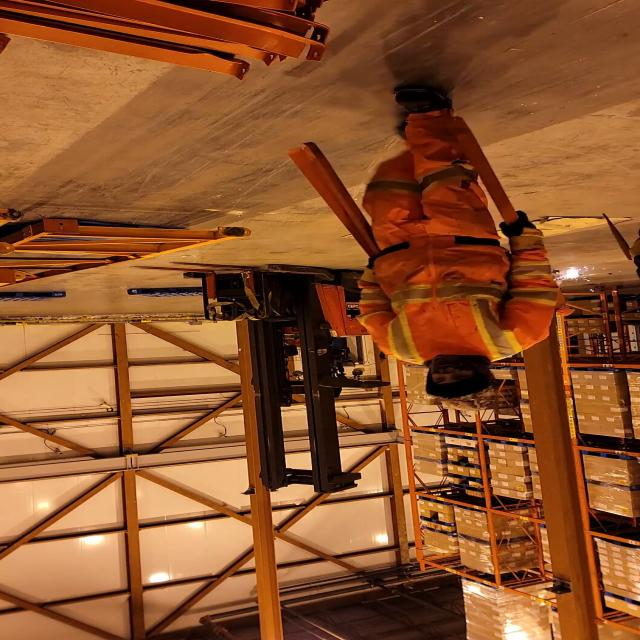forklift: (178, 262, 396, 486)
human: (271, 82, 565, 406), (592, 211, 640, 348)
objectofinterest: (0, 213, 254, 289), (477, 214, 636, 244), (122, 283, 220, 301), (0, 290, 72, 307)
